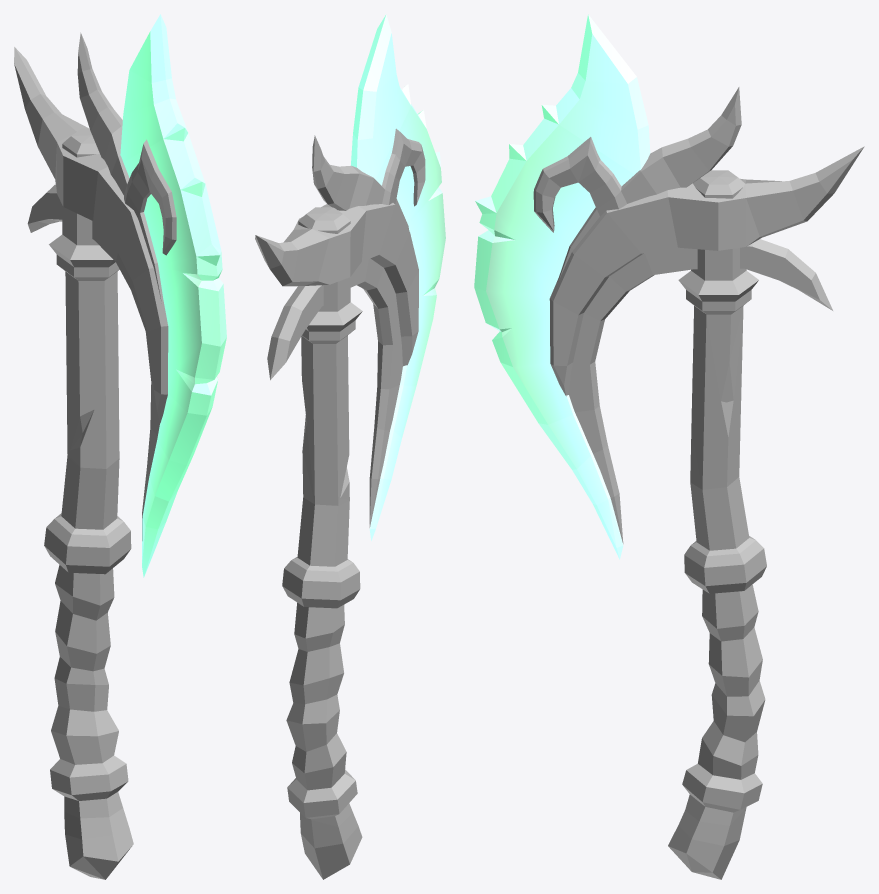
Rendered from SM_Wep_Axe_07.fbx.
3 renders of one model, left to right at view 1: azimuth 30°, elevation 25°; view 2: azimuth 150°, elevation 25°; view 3: azimuth 270°, elevation 25°, orthographic. The views are drawn at different scales.
Visible parts, largest first — view 1: SM_Wep_Axe_07; view 2: SM_Wep_Axe_07; view 3: SM_Wep_Axe_07.
Part boxes in pixels (x1,y1,x2,y2): SM_Wep_Axe_07: [14, 14, 226, 879]; SM_Wep_Axe_07: [255, 14, 445, 879]; SM_Wep_Axe_07: [474, 14, 864, 879].
Bounding box in the file's own units: 7.58 × 101 × 41.39.
